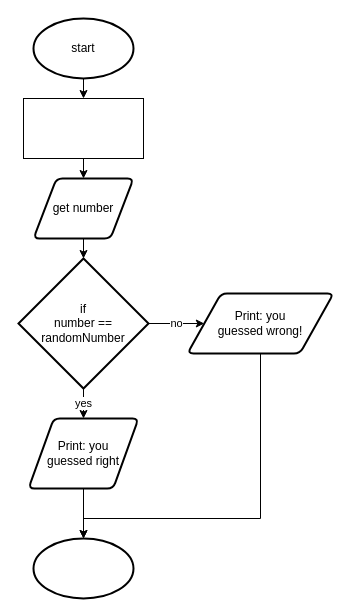
The diagram is 351 pixels wide and 616 high, and some of its shapes have lost their labels. The shapes that lost their labels are listed below. From the top down, each one's centre as x and y in pixels, then its label:
At (x=83, y=128): "generate randomNumber".
At (x=83, y=568): "Stop".
